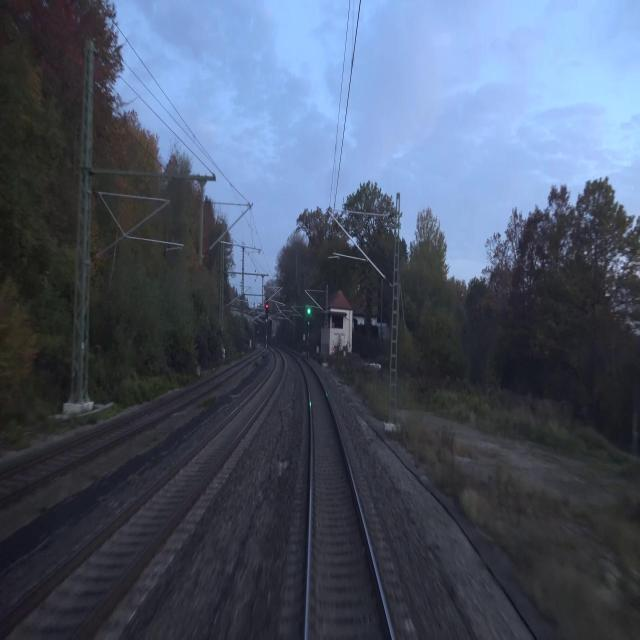rail-track: (0, 353, 282, 639), (0, 369, 233, 495), (300, 360, 391, 639)
